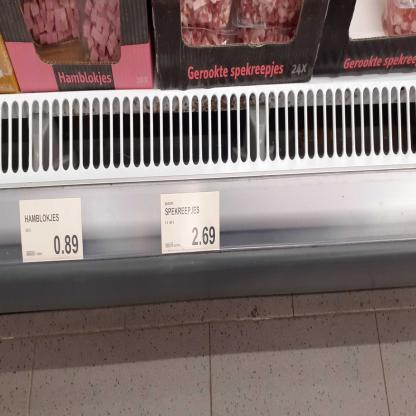prtg: (20, 199, 85, 264), (162, 192, 221, 255)
